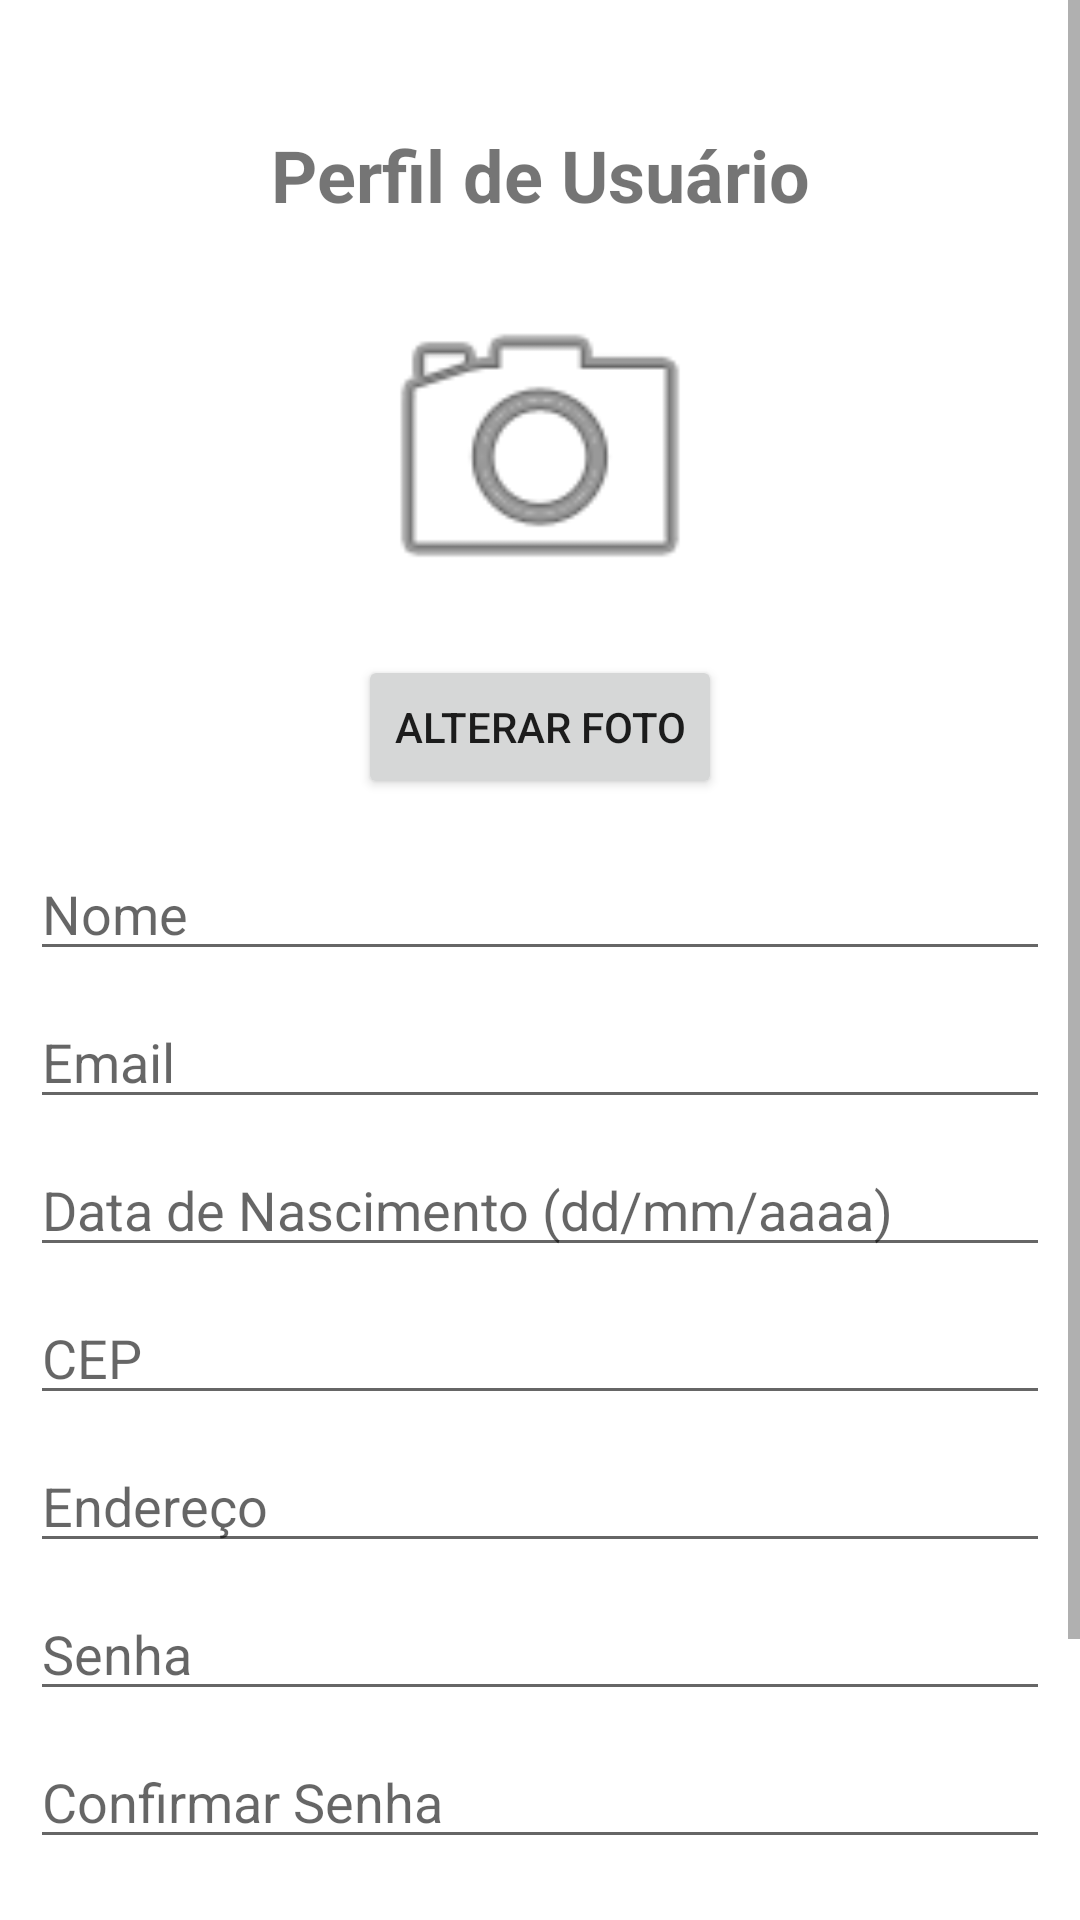

Icons on this 1080w x 1920h Android screen, each with the point to tap as [x,y]:
Foto de perfil: [540,445]
